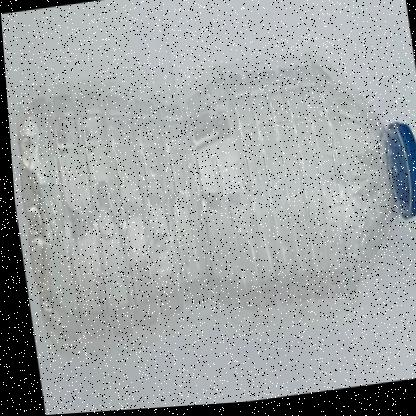bottle cap: (284, 39, 416, 334)
